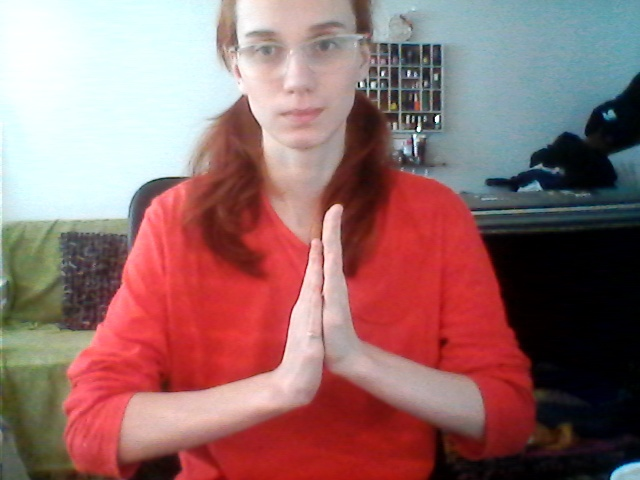prosim: (229, 202, 418, 432)
